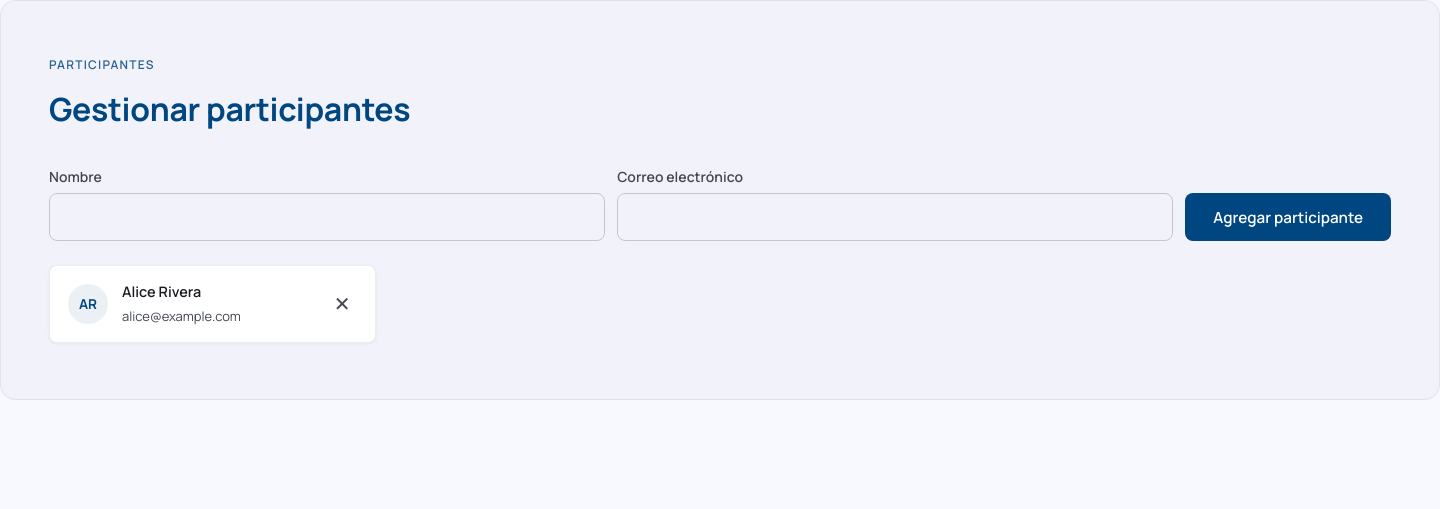
Test: ParticipantSection › preserves form fields and shows the error message on duplicate email
Expected: the text "Alice Rivera" is shown, top-left (122, 282), bottom-right (201, 301)
In the field labelled "Nombre": (327, 217) top-left (49, 193), bottom-right (605, 241), type "Alice Rivera"
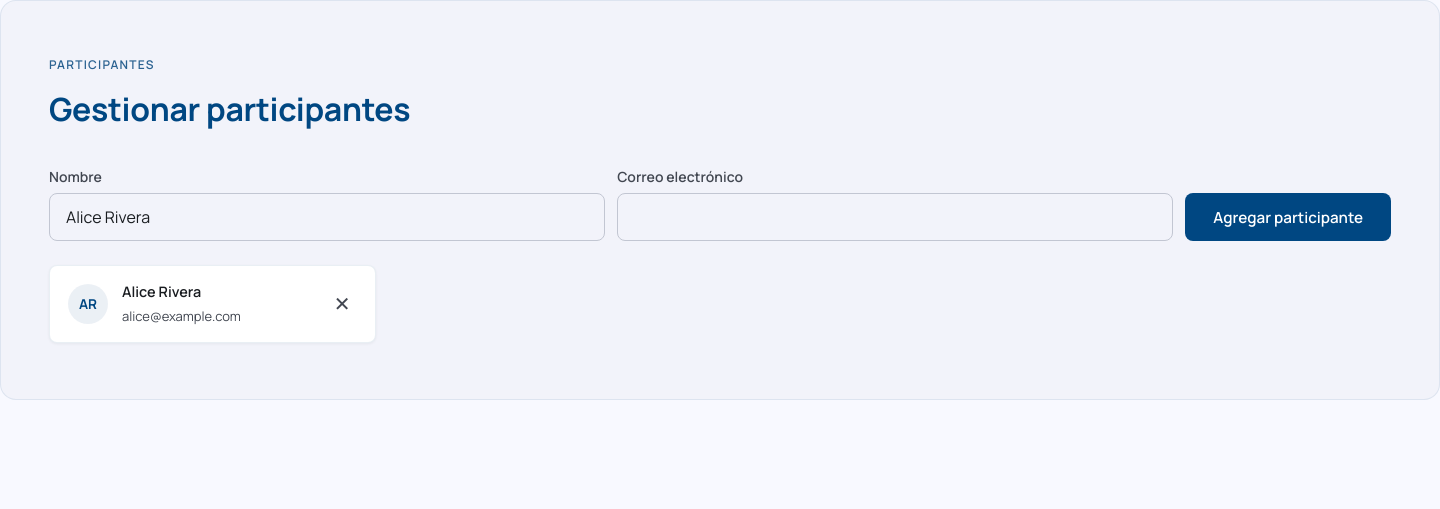
In the field labelled "Correo electrónico": (895, 217) top-left (617, 193), bottom-right (1173, 241), type "alice@example.com"
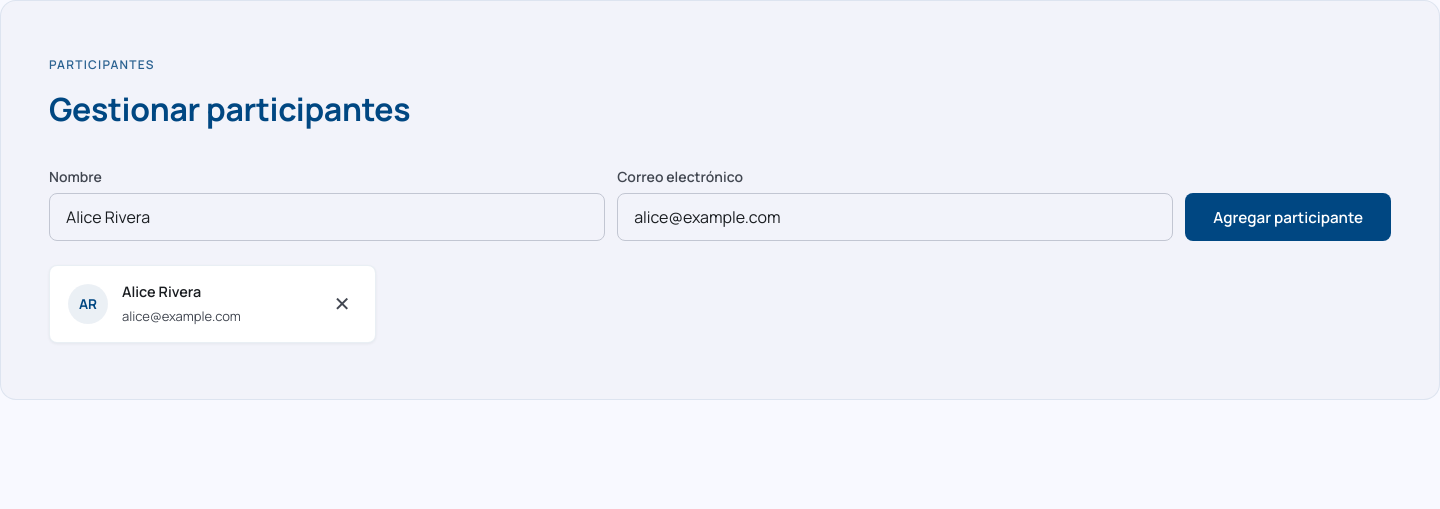
Click the button "Agregar participante": (1288, 217) top-left (1185, 193), bottom-right (1391, 241)
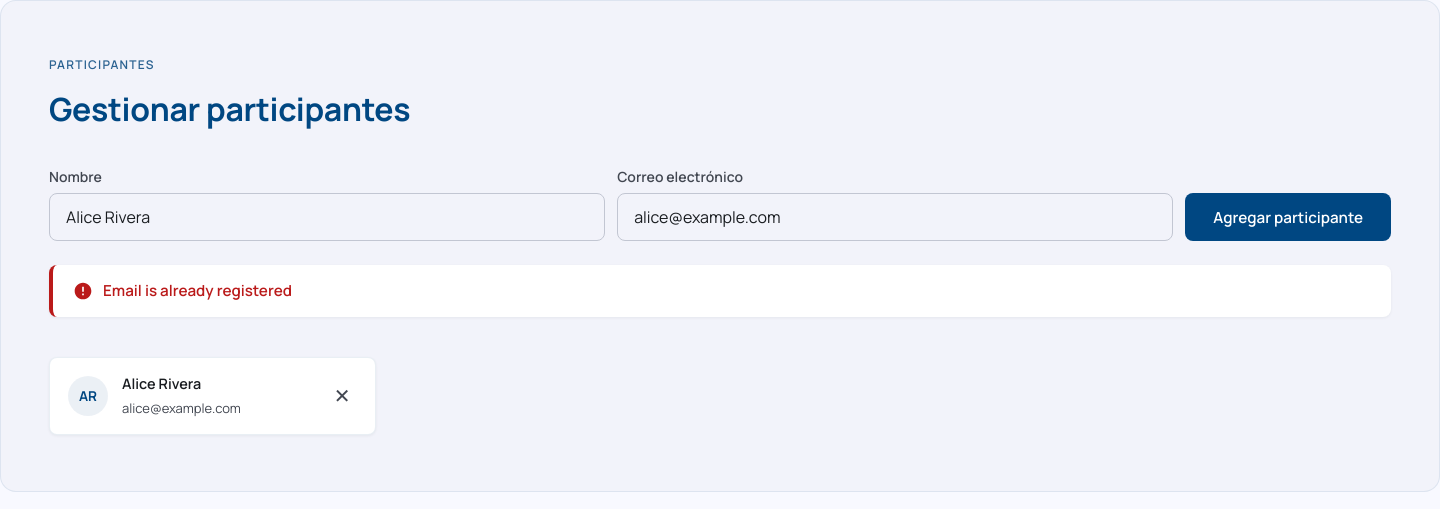
Result: the text "Email is already registered" is shown at top-left (49, 265), bottom-right (1391, 317)
